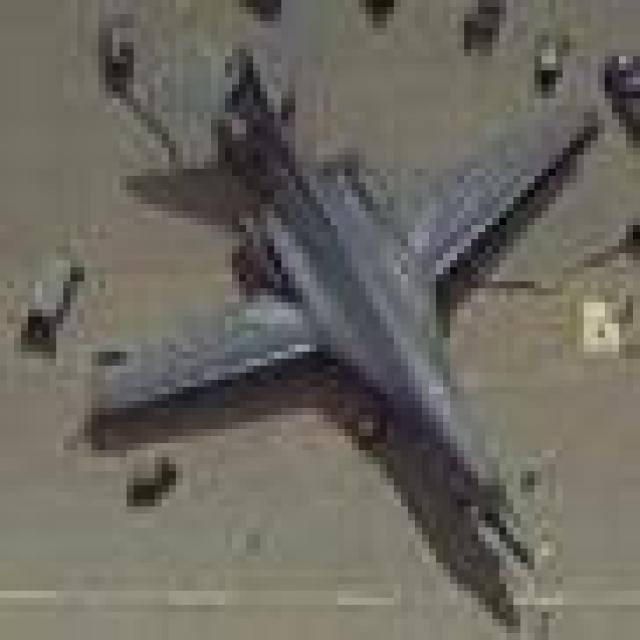B-1_TopDown: (14, 42, 605, 633)
